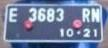clone-license-plate: (3, 2, 103, 42)
